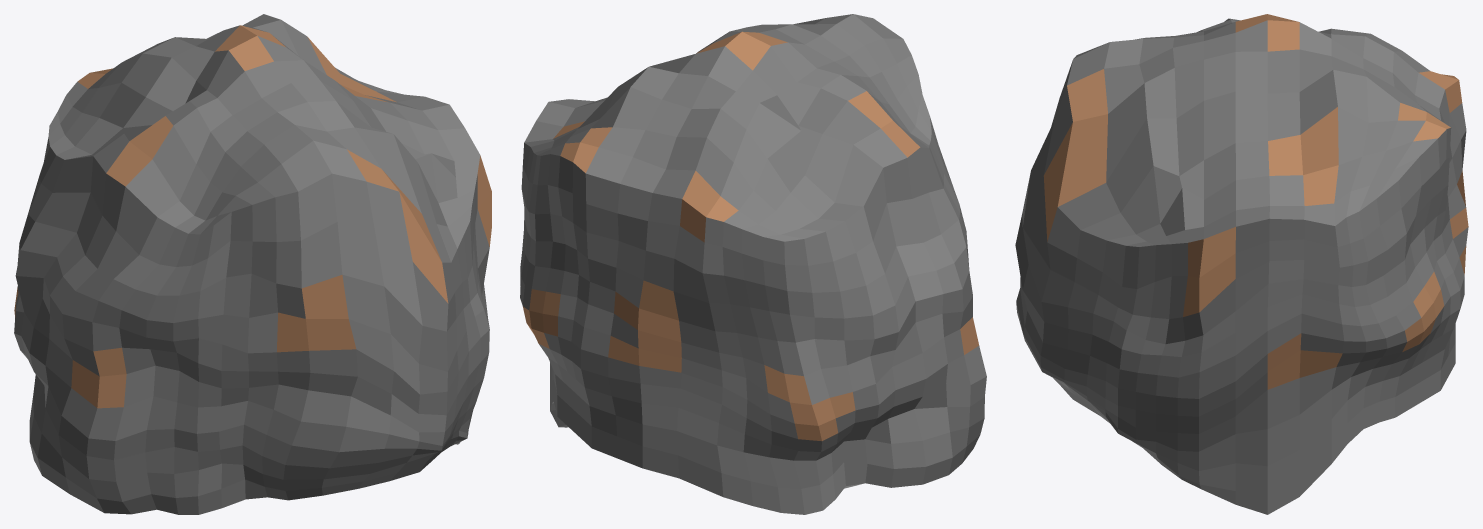
File: MetalStone.fbx
The picture shows the model from 3 angles, left to right: view 1: azimuth 30°, elevation 25°; view 2: azimuth 150°, elevation 25°; view 3: azimuth 270°, elevation 25°; orthographic projection. The views are drawn at different scales.
Visible parts, largest first — view 1: stone_metal; view 2: stone_metal; view 3: stone_metal.
Part boxes in pixels (left/top/right/bottom): stone_metal: left=14, top=14, right=491, bottom=514; stone_metal: left=520, top=14, right=986, bottom=514; stone_metal: left=1015, top=14, right=1468, bottom=514.
Bounding box in the file's own units: 352 × 358 × 355.
